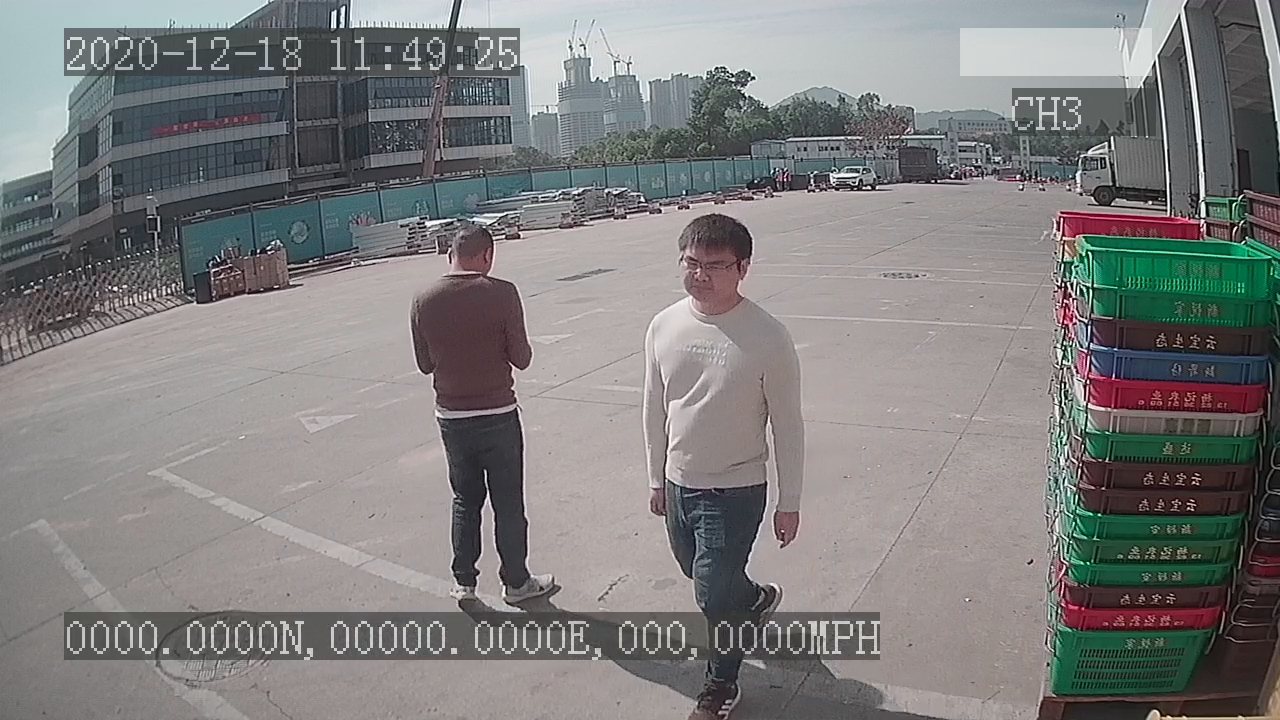person: (402, 219, 563, 608)
